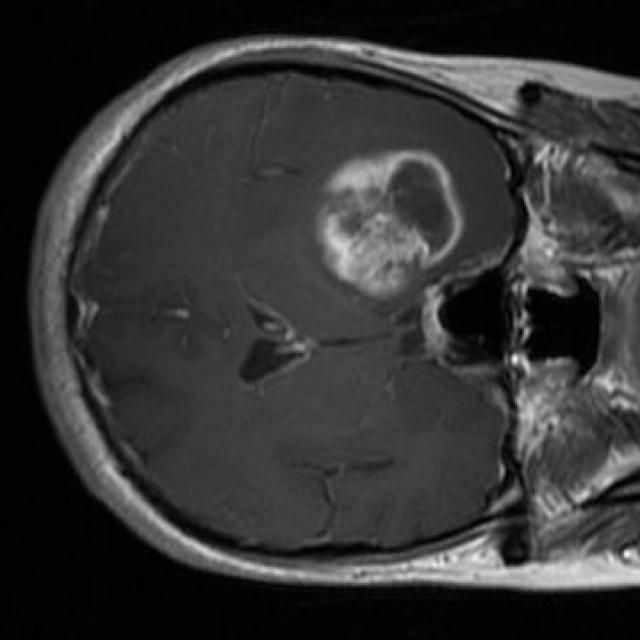glioma: (316, 150, 464, 298)
